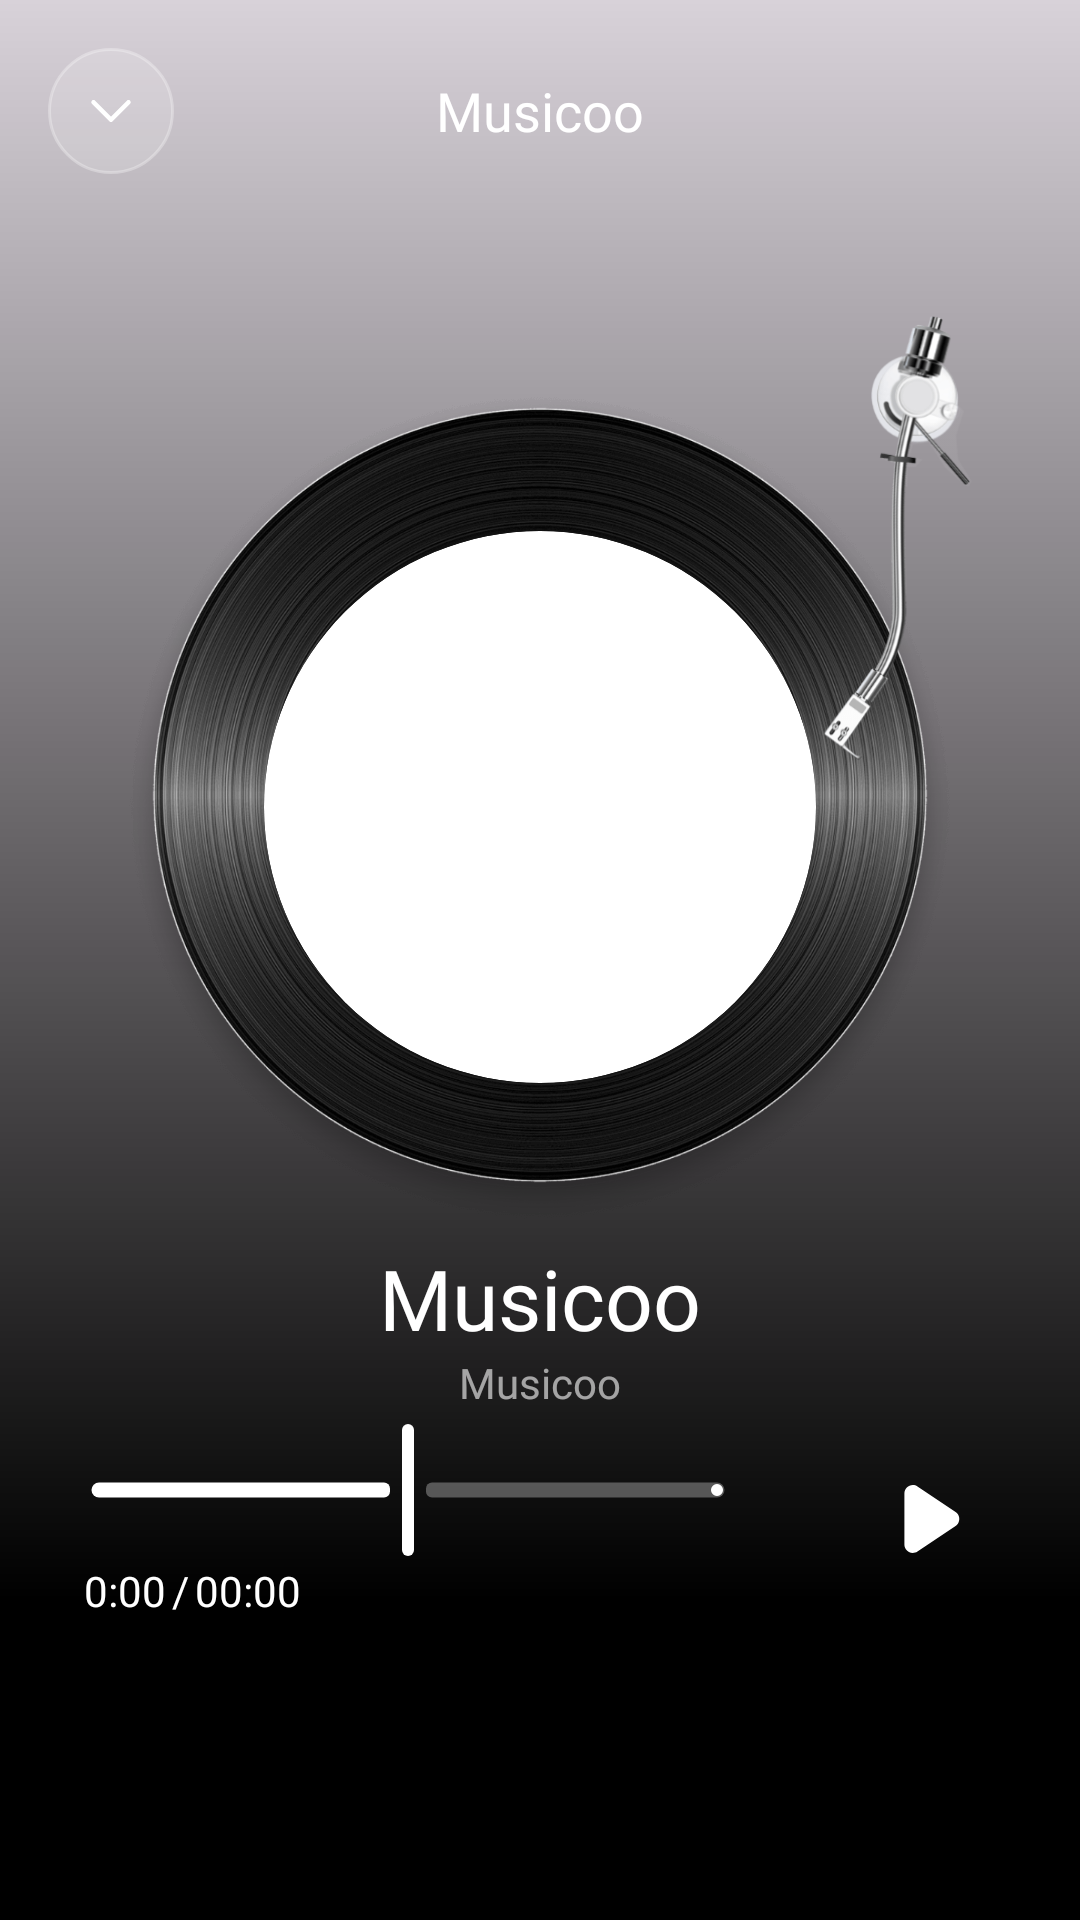

Icon bounding boxes for this 1080x1920 phone screenshot, format (x1, y1, x2, y2):
arrow bottom: (91, 100, 131, 122)
play: (904, 1485, 960, 1553)
